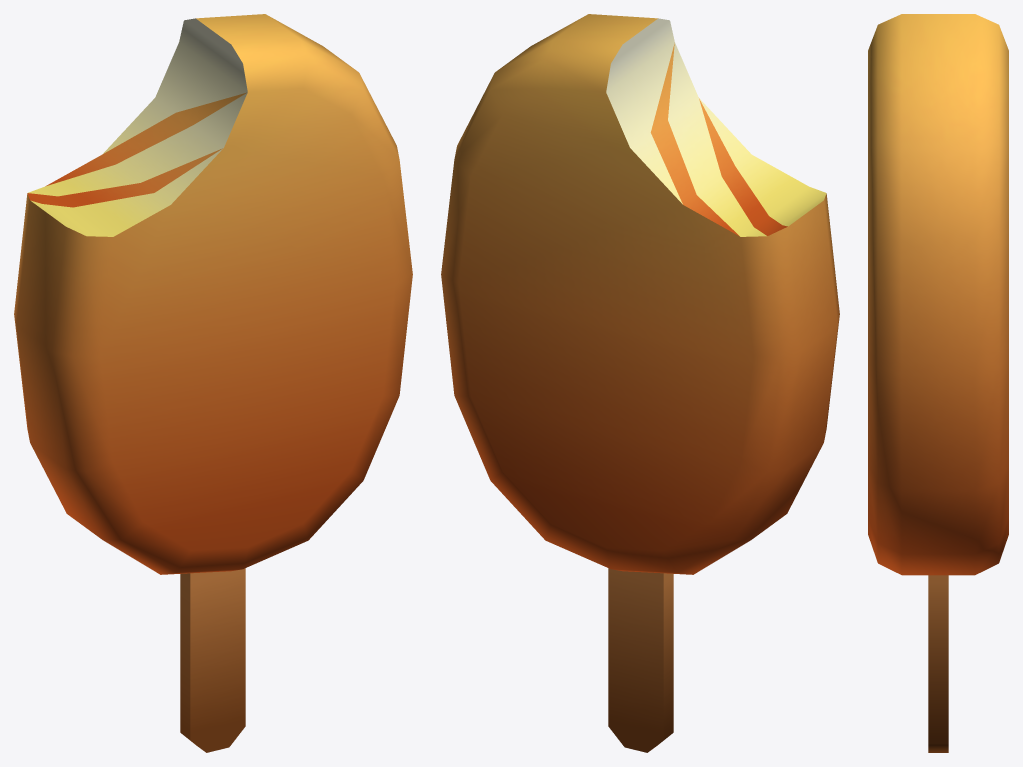
File: m_BigPopsicle09.fbx
3 views of the same model, side by side, from view 1: azimuth 30°, elevation 25°; view 2: azimuth 150°, elevation 25°; view 3: azimuth 270°, elevation 25° (orthographic). The views are drawn at different scales.
Parts seen in each view (by area): view 1: m_BigPopsicle09; view 2: m_BigPopsicle09; view 3: m_BigPopsicle09.
Part boxes in pixels (bbox=[...]): m_BigPopsicle09: bbox=[14, 14, 412, 752]; m_BigPopsicle09: bbox=[441, 14, 839, 752]; m_BigPopsicle09: bbox=[868, 14, 1008, 752].
Size of the model in its own units: 12.05 by 22.96 by 4.
